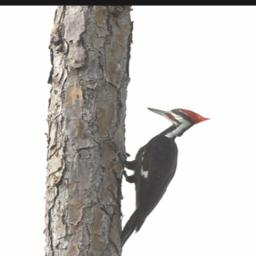Woodpecker: (122, 107, 212, 250)
